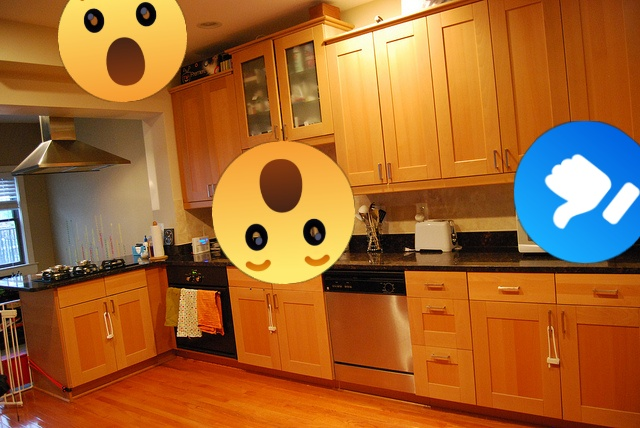like: (514, 121, 640, 263)
wow: (212, 141, 355, 284), (58, 0, 187, 102)
